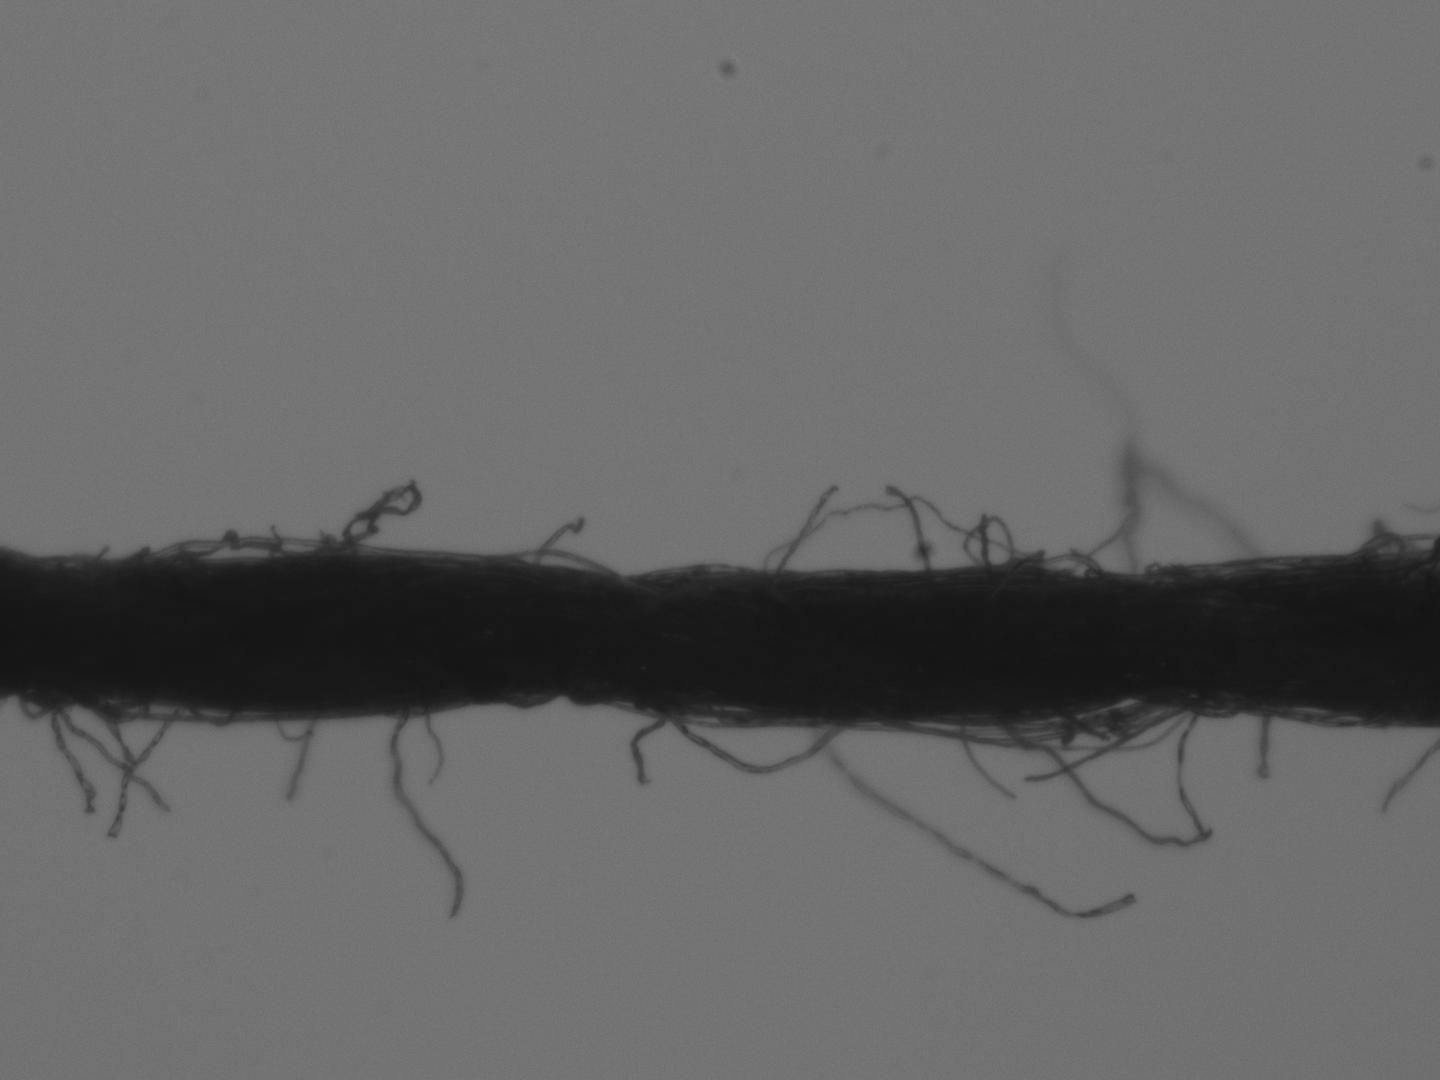loop_fiber: (1002, 697, 1212, 847), (761, 496, 1025, 581), (883, 699, 1184, 751), (670, 710, 849, 778), (310, 478, 425, 556), (124, 534, 299, 566), (484, 551, 628, 590), (960, 507, 1016, 572), (1007, 550, 1103, 576), (1350, 532, 1417, 558), (79, 700, 149, 722), (189, 707, 236, 728), (16, 694, 59, 716)
protruding_fiber: (810, 724, 1140, 922), (387, 709, 463, 918), (771, 479, 838, 575), (952, 725, 1016, 805), (48, 709, 93, 813), (890, 482, 932, 572), (630, 710, 667, 785), (1255, 706, 1276, 779)
